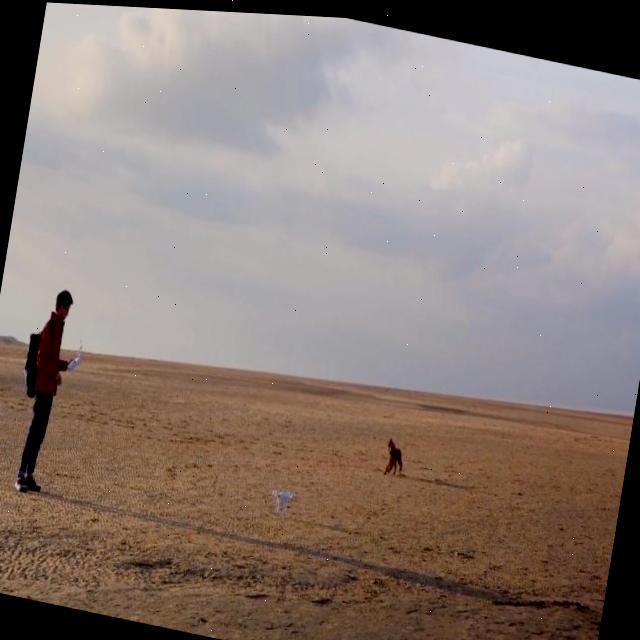drone: (267, 477, 296, 514)
